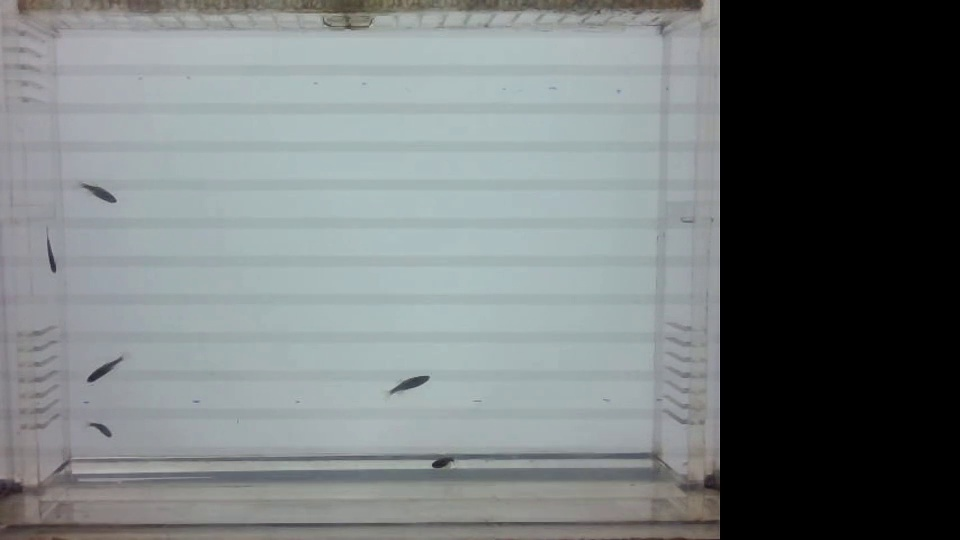fish: (376, 364, 440, 402), (80, 352, 128, 385), (416, 444, 465, 473), (76, 180, 116, 212), (36, 229, 58, 280), (80, 414, 112, 442)
